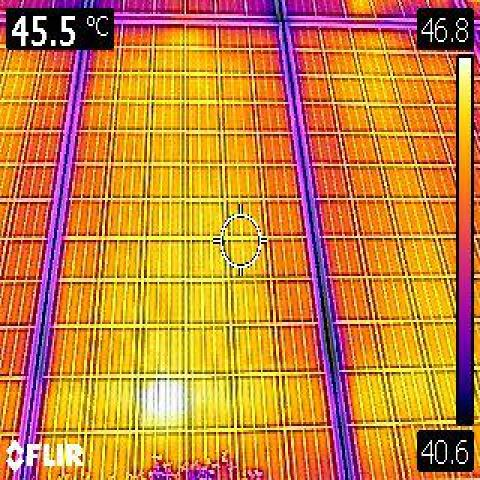fault: (136, 375, 185, 430)
